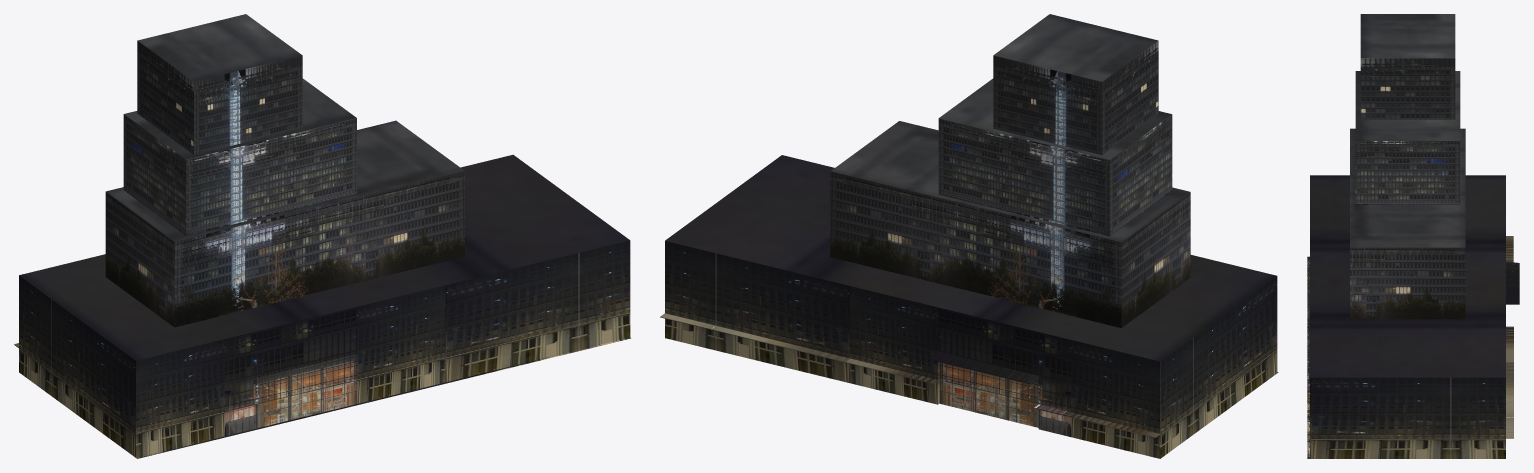
File: Tribunal.fbx
The picture shows the model from 3 angles, left to right: view 1: azimuth 30°, elevation 25°; view 2: azimuth 150°, elevation 25°; view 3: azimuth 270°, elevation 25°; orthographic projection. The views are drawn at different scales.
Parts seen in each view (by area): view 1: Tribunal, Cube; view 2: Tribunal, Cube; view 3: Tribunal, Cube.
Boxes of the visible parts, x1,y1,x2,y2 form: Tribunal: (14, 154, 630, 458); Cube: (105, 14, 464, 327); Tribunal: (660, 155, 1278, 458); Cube: (830, 14, 1190, 327); Tribunal: (1307, 175, 1519, 458); Cube: (1350, 14, 1465, 319).
Bounding box in the file's own units: 10.11 × 4.48 × 6.5.
Materials: 2 (2 with a texture image).
